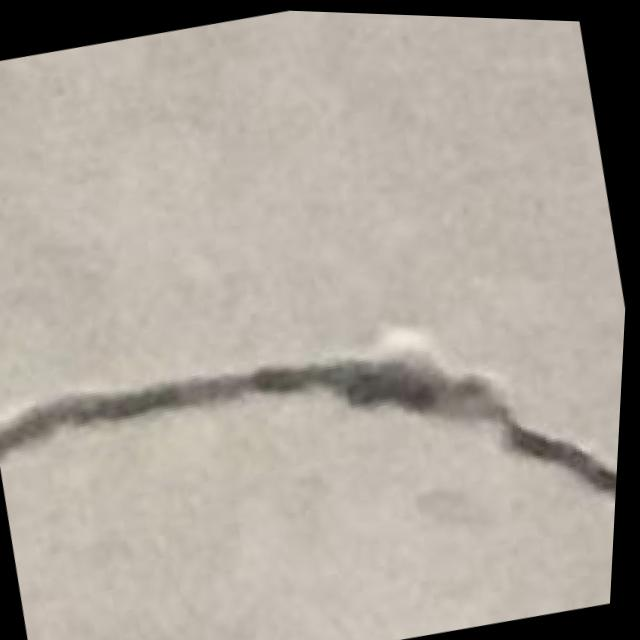Crack: (0, 258, 629, 640)
